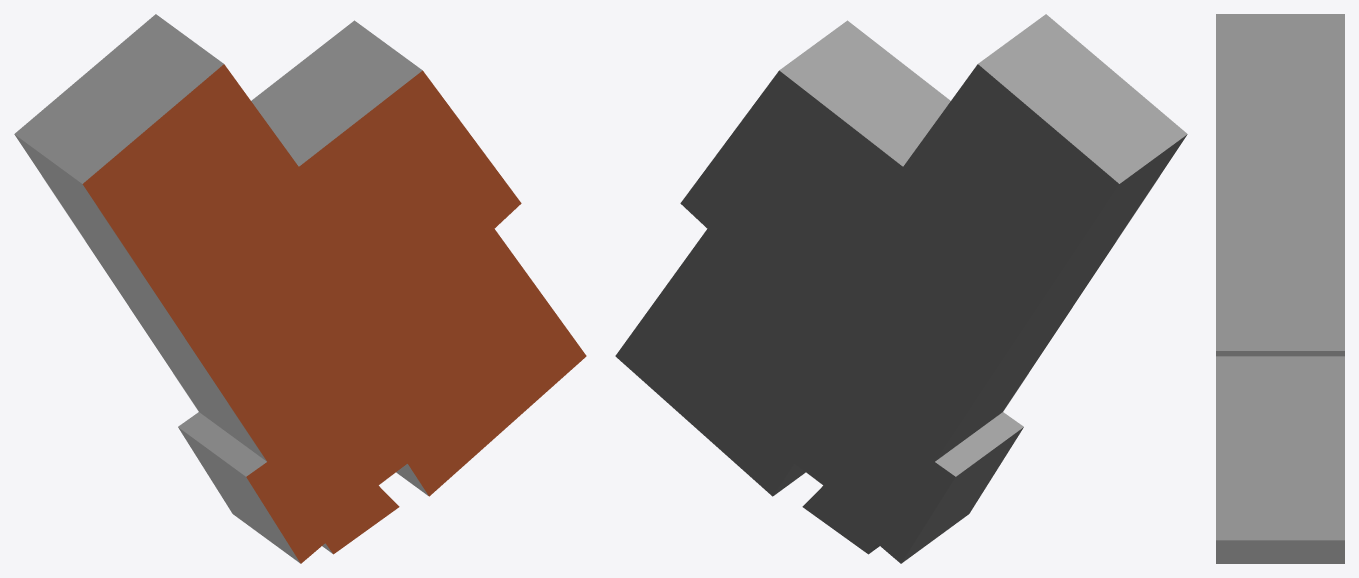
File: construction_3332_assumed_A_Casa_h6m.obj
The picture shows the model from 3 angles, left to right: view 1: azimuth 30°, elevation 25°; view 2: azimuth 150°, elevation 25°; view 3: azimuth 270°, elevation 25°; orthographic projection. The views are drawn at different scales.
Parts seen in each view (by area): view 1: construction_3332_assumed_A_Casa; view 2: construction_3332_assumed_A_Casa; view 3: construction_3332_assumed_A_Casa.
Part boxes in pixels (x1,y1,x2,y2): construction_3332_assumed_A_Casa: (14,14,586,563); construction_3332_assumed_A_Casa: (615,14,1187,563); construction_3332_assumed_A_Casa: (1216,14,1344,563).
Size of the model in its own units: 25.58 by 25.14 by 6.
